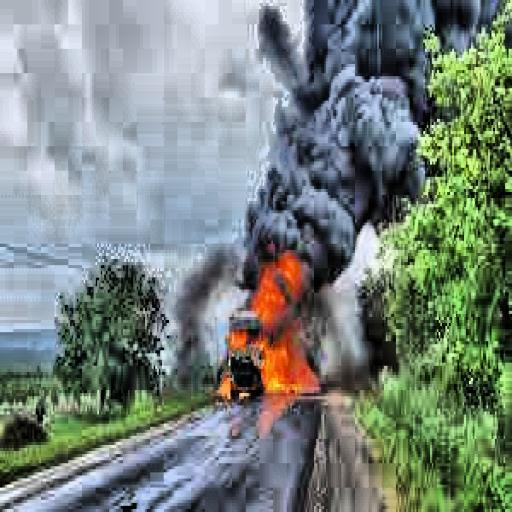fire: (212, 256, 331, 402)
